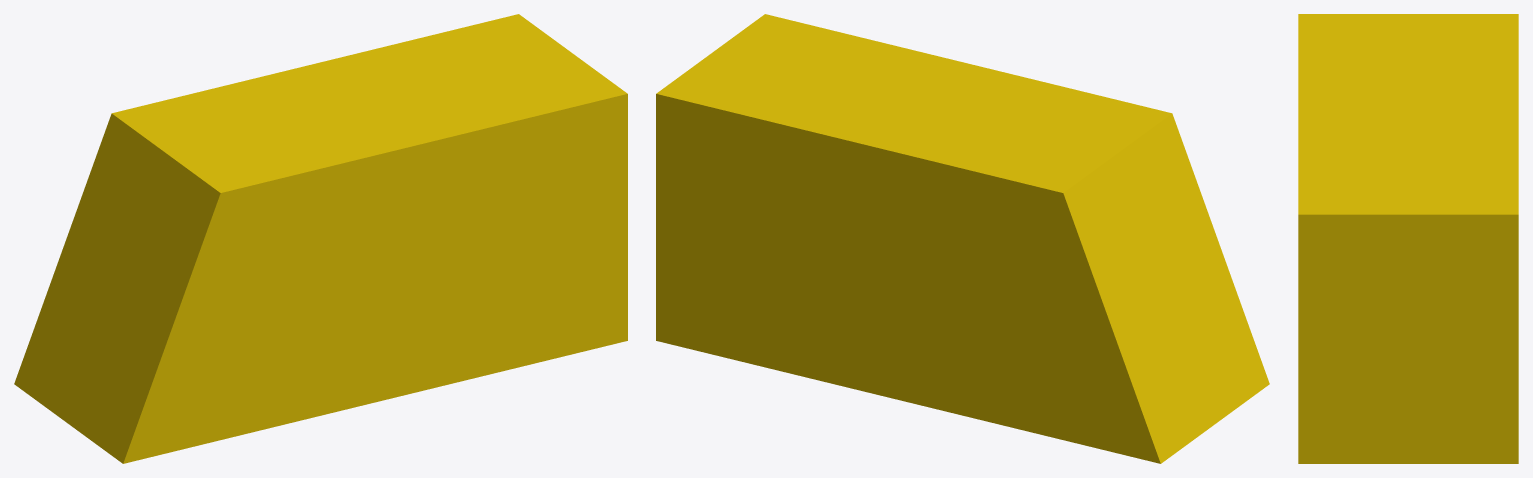
The model's file is handguard_01.fbx.
3 views of the same model, side by side, from view 1: azimuth 30°, elevation 25°; view 2: azimuth 150°, elevation 25°; view 3: azimuth 270°, elevation 25° (orthographic).
Visible parts, largest first — view 1: Plane.004; view 2: Plane.004; view 3: Plane.004.
Part boxes in pixels (box(x1,y1,x2,y2)): Plane.004: box(14, 14, 627, 463); Plane.004: box(656, 14, 1269, 463); Plane.004: box(1298, 14, 1518, 463).
Bounding box in the file's own units: 428 × 200 × 160.
